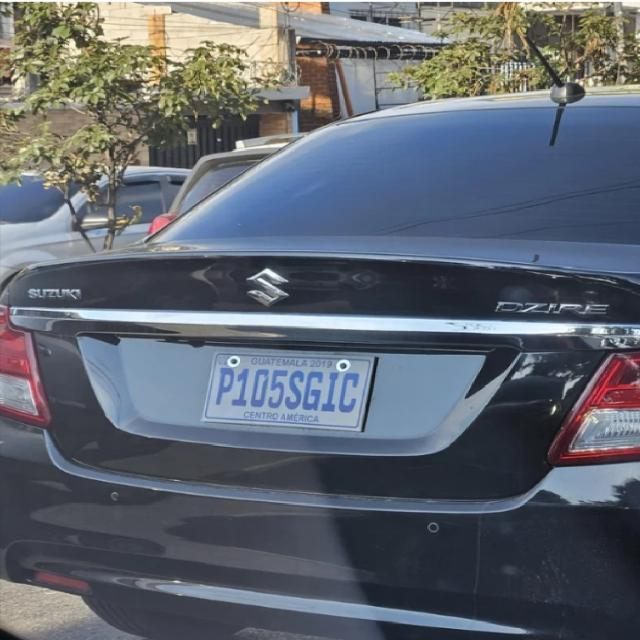Placas: (200, 341, 379, 435)
